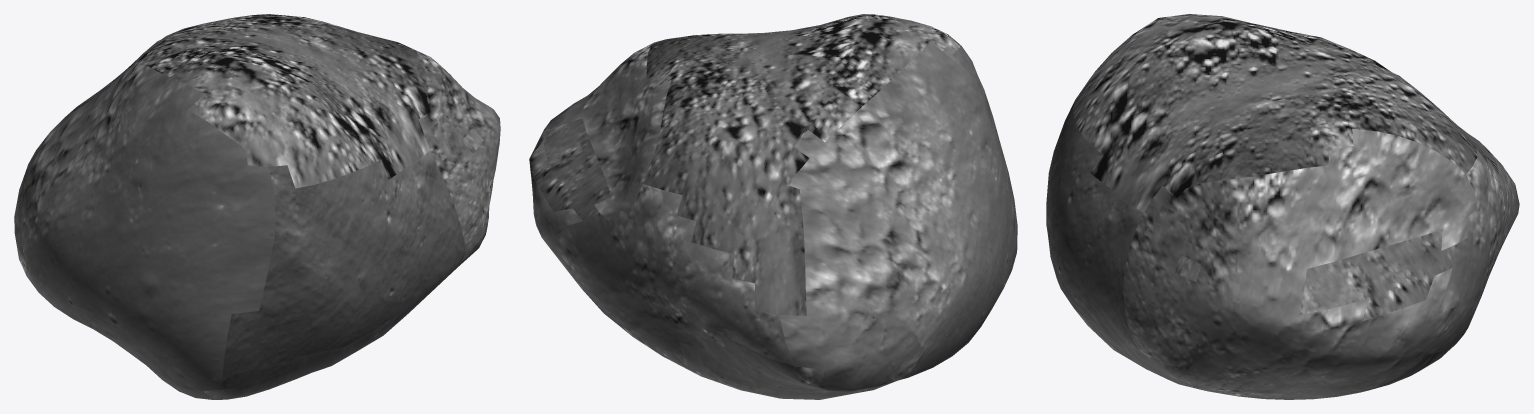
Rendered from Rock13.obj.
The picture shows the model from 3 angles, left to right: view 1: azimuth 30°, elevation 25°; view 2: azimuth 150°, elevation 25°; view 3: azimuth 270°, elevation 25°; orthographic projection. The views are drawn at different scales.
Visible parts, largest first — view 1: Rocks; view 2: Rocks; view 3: Rocks.
Part boxes in pixels (x1=…): Rocks: x1=14, y1=14, x2=500, y2=399; Rocks: x1=529, y1=14, x2=1017, y2=399; Rocks: x1=1046, y1=14, x2=1519, y2=399.
Size of the model in its own units: 0.7606 by 0.542 by 0.6907.
1 material, 1 textured.
